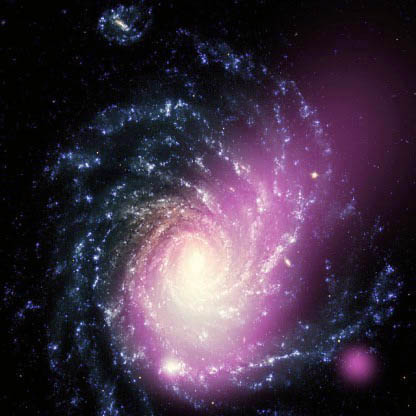NGC 1232: (37, 7, 403, 408)
